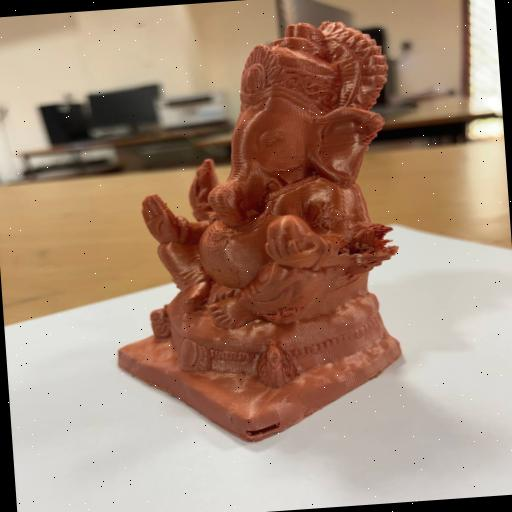cracks: (330, 220, 398, 270), (238, 412, 293, 446)
